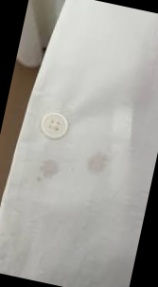wine: (28, 160, 60, 187), (82, 146, 111, 173)
